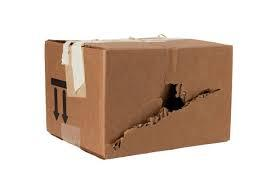damage_box: (42, 34, 234, 159)
